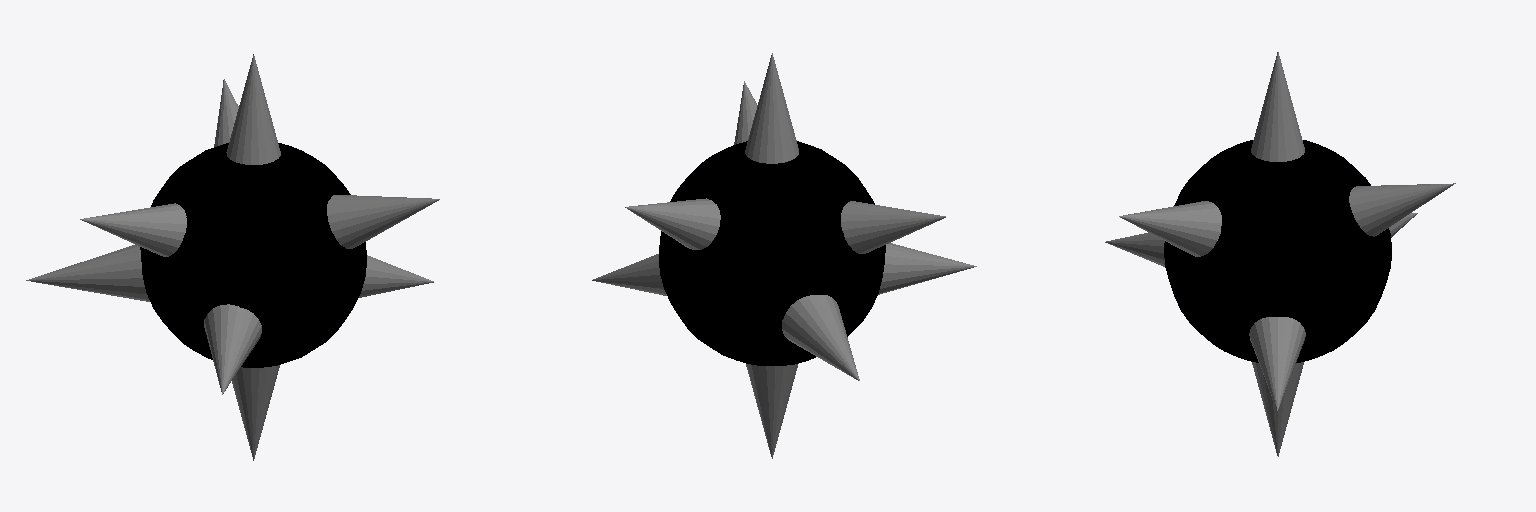
Rendered from needle.obj.
3 renders of one model, left to right at view 1: azimuth 30°, elevation 25°; view 2: azimuth 150°, elevation 25°; view 3: azimuth 270°, elevation 25°, orthographic.
Parts seen in each view (by area): view 1: pSphere1, pCone2, pCone7, pCone1, pCone4, pCone8, pCone5, pCone6, pCone3; view 2: pSphere1, pCone7, pCone1, pCone4, pCone3, pCone8, pCone5, pCone6, pCone2; view 3: pSphere1, pCone2, pCone1, pCone3, pCone6, pCone5, pCone8.
Part boxes in pixels (bbox=[...]): pSphere1: bbox=[140, 143, 366, 367]; pCone2: bbox=[327, 195, 439, 248]; pCone7: bbox=[26, 244, 149, 301]; pCone1: bbox=[226, 54, 280, 164]; pCone4: bbox=[80, 203, 186, 256]; pCone8: bbox=[204, 304, 261, 394]; pCone5: bbox=[232, 365, 279, 460]; pCone6: bbox=[359, 255, 433, 297]; pCone3: bbox=[214, 79, 238, 146]; pSphere1: bbox=[659, 141, 885, 365]; pCone7: bbox=[782, 295, 859, 380]; pCone1: bbox=[745, 53, 798, 163]; pCone4: bbox=[841, 201, 945, 253]; pCone3: bbox=[625, 198, 720, 249]; pCone8: bbox=[878, 243, 976, 294]; pCone5: bbox=[746, 363, 798, 458]; pCone6: bbox=[592, 254, 666, 295]; pCone2: bbox=[734, 81, 757, 144]; pSphere1: bbox=[1164, 140, 1391, 362]; pCone2: bbox=[1119, 201, 1221, 256]; pCone1: bbox=[1251, 52, 1304, 161]; pCone3: bbox=[1349, 183, 1455, 236]; pCone6: bbox=[1249, 317, 1305, 411]; pCone5: bbox=[1252, 362, 1303, 456]; pCone8: bbox=[1105, 232, 1164, 266].
Bounding box in the file's own units: 3.6 × 3.94 × 3.08.